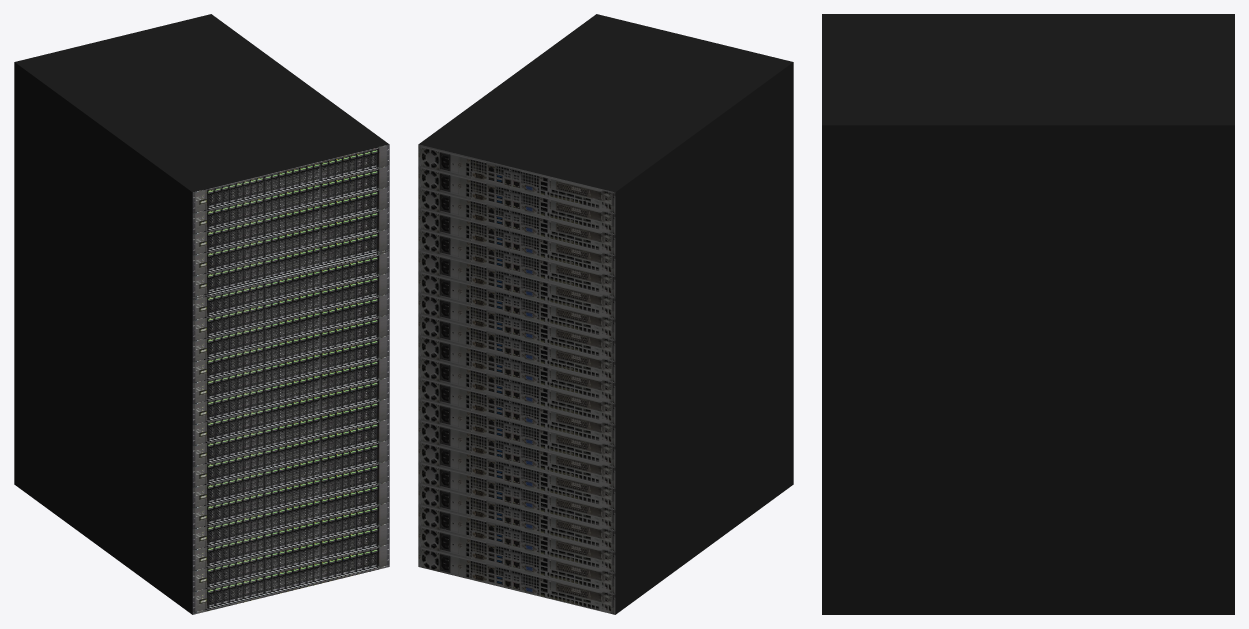
File: CDR20.fbx
The picture shows the model from 3 angles, left to right: view 1: azimuth 30°, elevation 25°; view 2: azimuth 150°, elevation 25°; view 3: azimuth 270°, elevation 25°; orthographic projection. The views are drawn at different scales.
Parts seen in each view (by area): view 1: CDR20; view 2: CDR20; view 3: CDR20.
Boxes of the visible parts, x1,y1,x2,y2 form: CDR20: (14, 14, 389, 614); CDR20: (418, 14, 793, 614); CDR20: (822, 14, 1234, 614).
Size of the model in its own units: 434 by 890 by 680.
3 materials, 2 textured.
